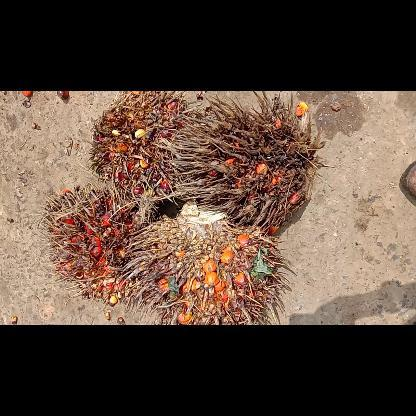Terlalu masak: (160, 91, 326, 239), (121, 198, 298, 324), (37, 180, 160, 316), (85, 91, 211, 203)
